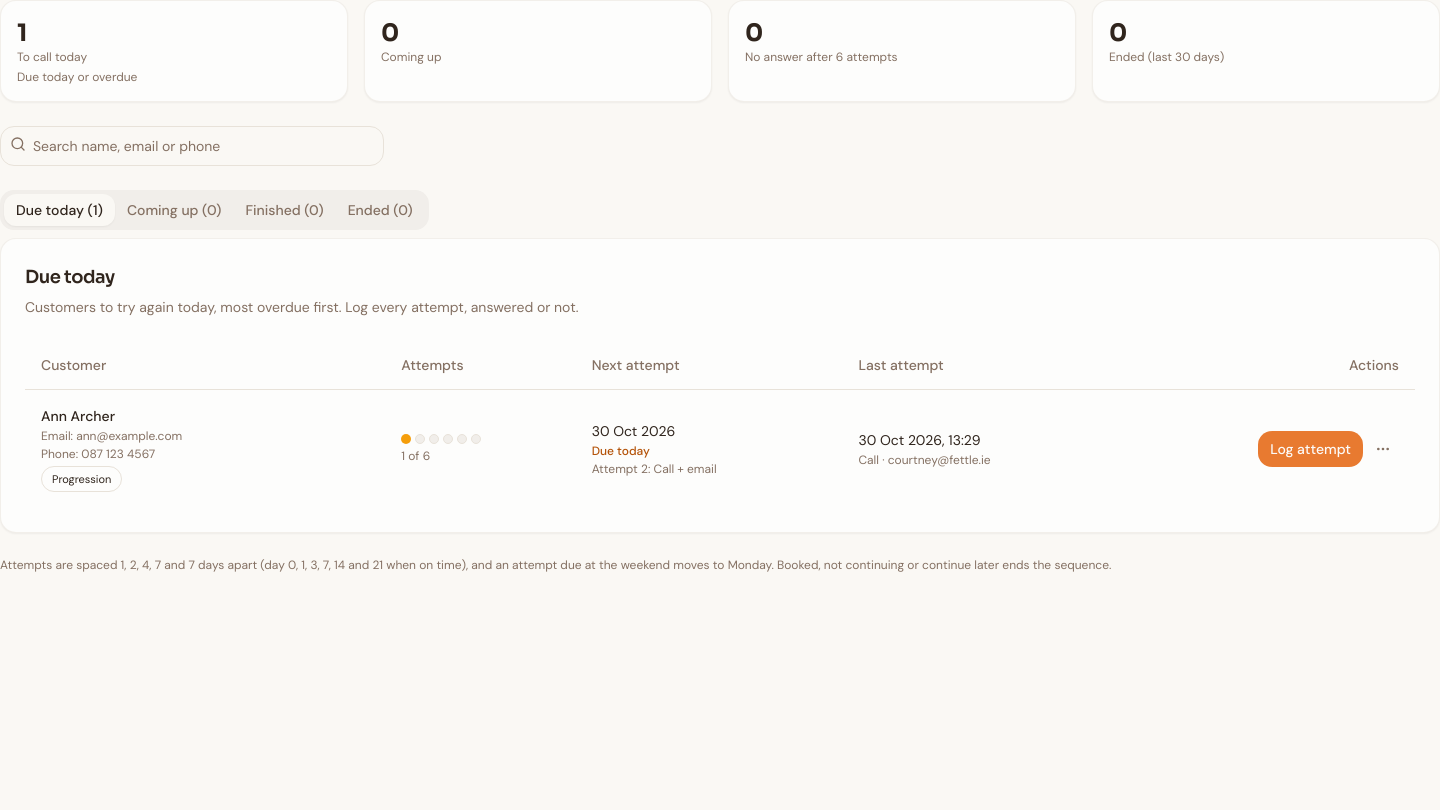
No answer page › warns when someone already tried today
The width and height of the screenshot is (1440, 810).
Step 1. Click the button "Log attempt" → (1311, 448), box [1258,430,1363,466]
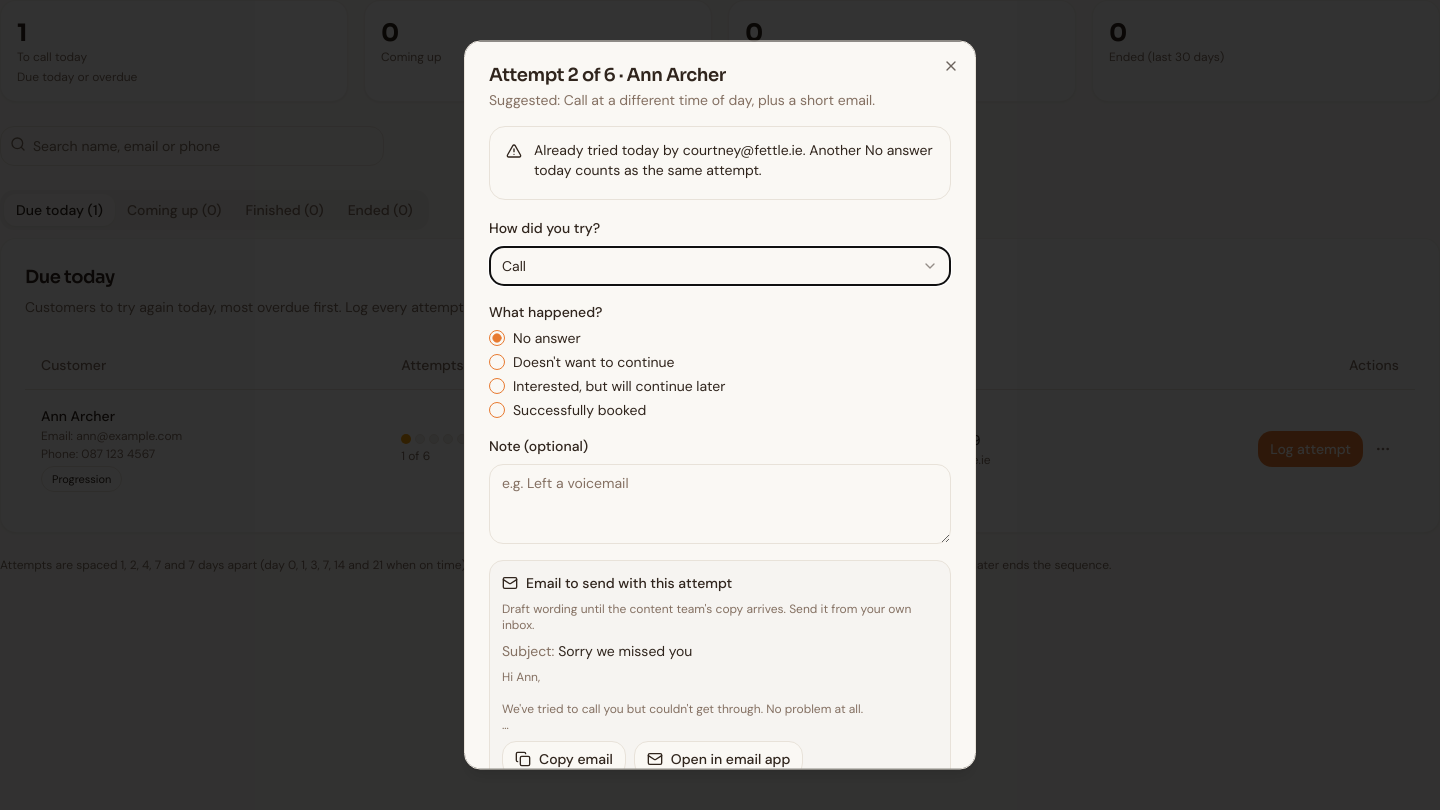
Result: the text "Already tried today by courtney@fettle.ie" is shown at [506,140,934,180]
